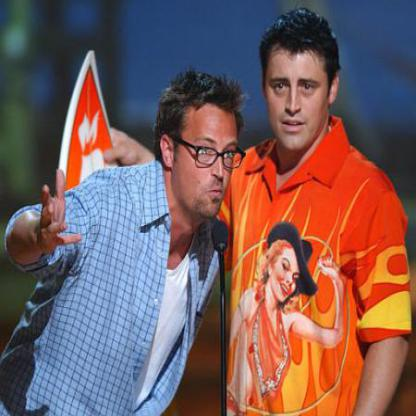face: (175, 86, 244, 220), (266, 23, 330, 154), (273, 239, 305, 305)
